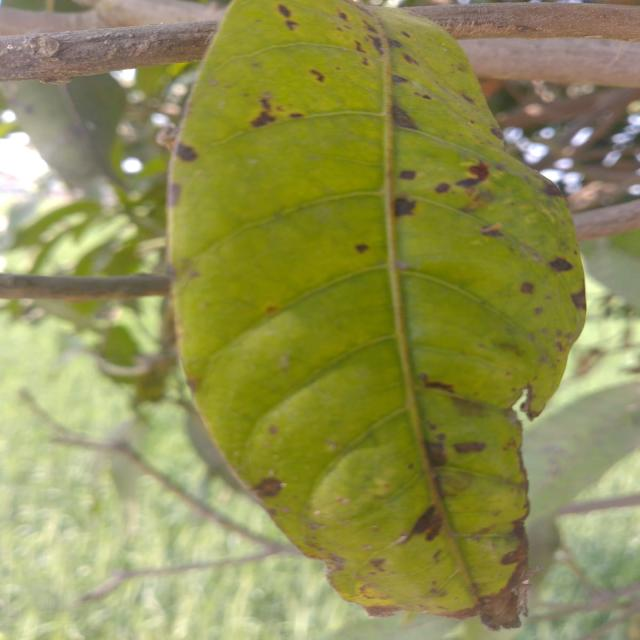Anthracnose: (233, 101, 297, 140), (406, 501, 450, 553), (456, 158, 494, 196), (244, 95, 282, 132), (447, 391, 490, 423), (384, 103, 423, 138), (416, 372, 457, 395), (258, 476, 287, 505), (425, 437, 449, 469), (276, 1, 300, 32), (172, 141, 201, 165), (369, 33, 389, 57), (542, 180, 566, 199), (395, 197, 416, 217), (366, 606, 401, 617), (310, 65, 328, 85), (454, 442, 486, 453), (167, 183, 181, 208), (482, 222, 504, 237), (361, 19, 380, 36), (572, 288, 586, 311), (550, 258, 573, 272), (276, 2, 294, 19), (489, 124, 507, 141), (413, 88, 433, 102), (283, 16, 299, 32), (460, 91, 477, 106), (402, 53, 421, 66), (370, 558, 387, 571), (335, 10, 351, 23), (520, 281, 536, 294), (267, 423, 281, 437), (435, 182, 451, 193), (400, 170, 417, 180), (433, 548, 443, 564), (355, 40, 366, 54), (392, 75, 408, 84), (356, 244, 370, 254), (388, 38, 403, 47), (401, 29, 413, 40), (360, 57, 370, 68), (290, 112, 304, 118), (534, 307, 543, 314)
